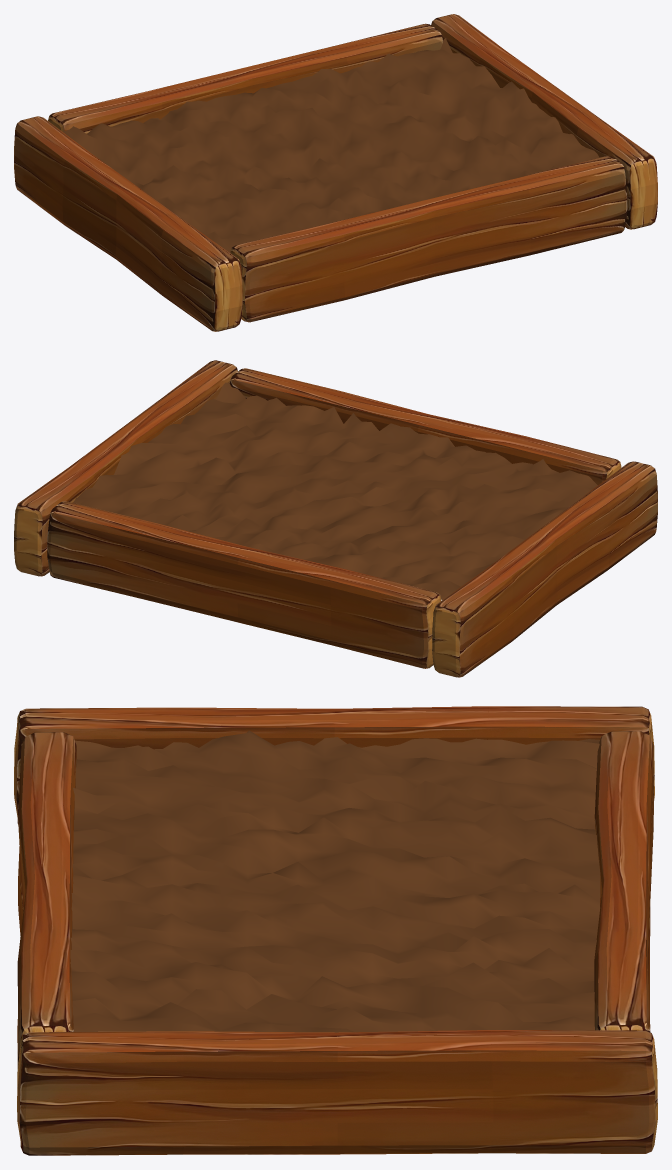
File: crop_bed.glb
The picture shows the model from 3 angles, top to bottom: view 1: azimuth 30°, elevation 25°; view 2: azimuth 150°, elevation 25°; view 3: azimuth 270°, elevation 25°; orthographic projection. The views are drawn at different scales.
Parts seen in each view (by area): view 1: cenoura.006, Torus.002; view 2: cenoura.006, Torus.002; view 3: Torus.002, cenoura.006.
Boxes of the visible parts, x1=… form: cenoura.006: x1=14, y1=14, x2=657, y2=331; Torus.002: x1=63, y1=38, x2=599, y2=252; cenoura.006: x1=14, y1=360, x2=657, y2=677; Torus.002: x1=73, y1=382, x2=597, y2=599; Torus.002: x1=70, y1=730, x2=600, y2=1032; cenoura.006: x1=14, y1=706, x2=657, y2=1155.
Size of the model in its own units: 3.05 by 0.453 by 2.38.
2 materials, 1 textured.
